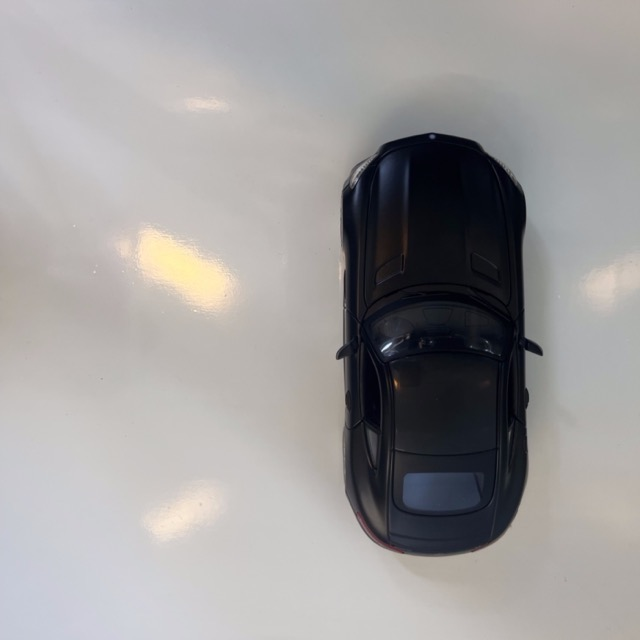car: (333, 132, 544, 555)
